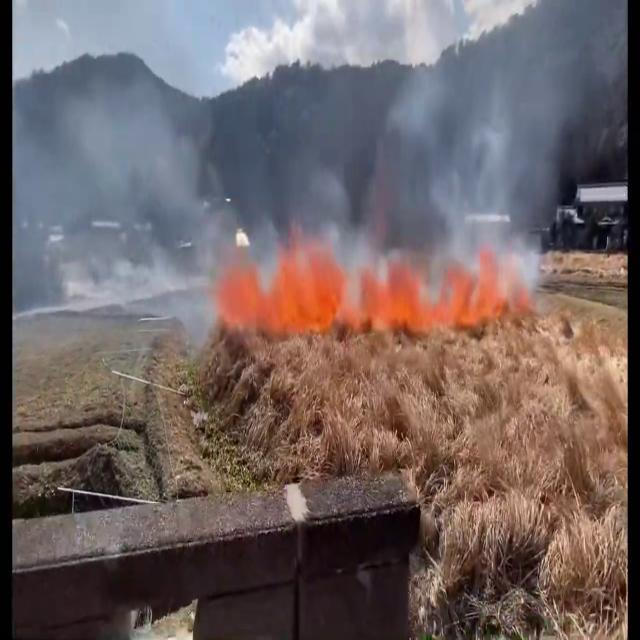Fire: (360, 236, 508, 334), (246, 224, 350, 336)
Smoke: (288, 2, 622, 263), (13, 49, 228, 363)
